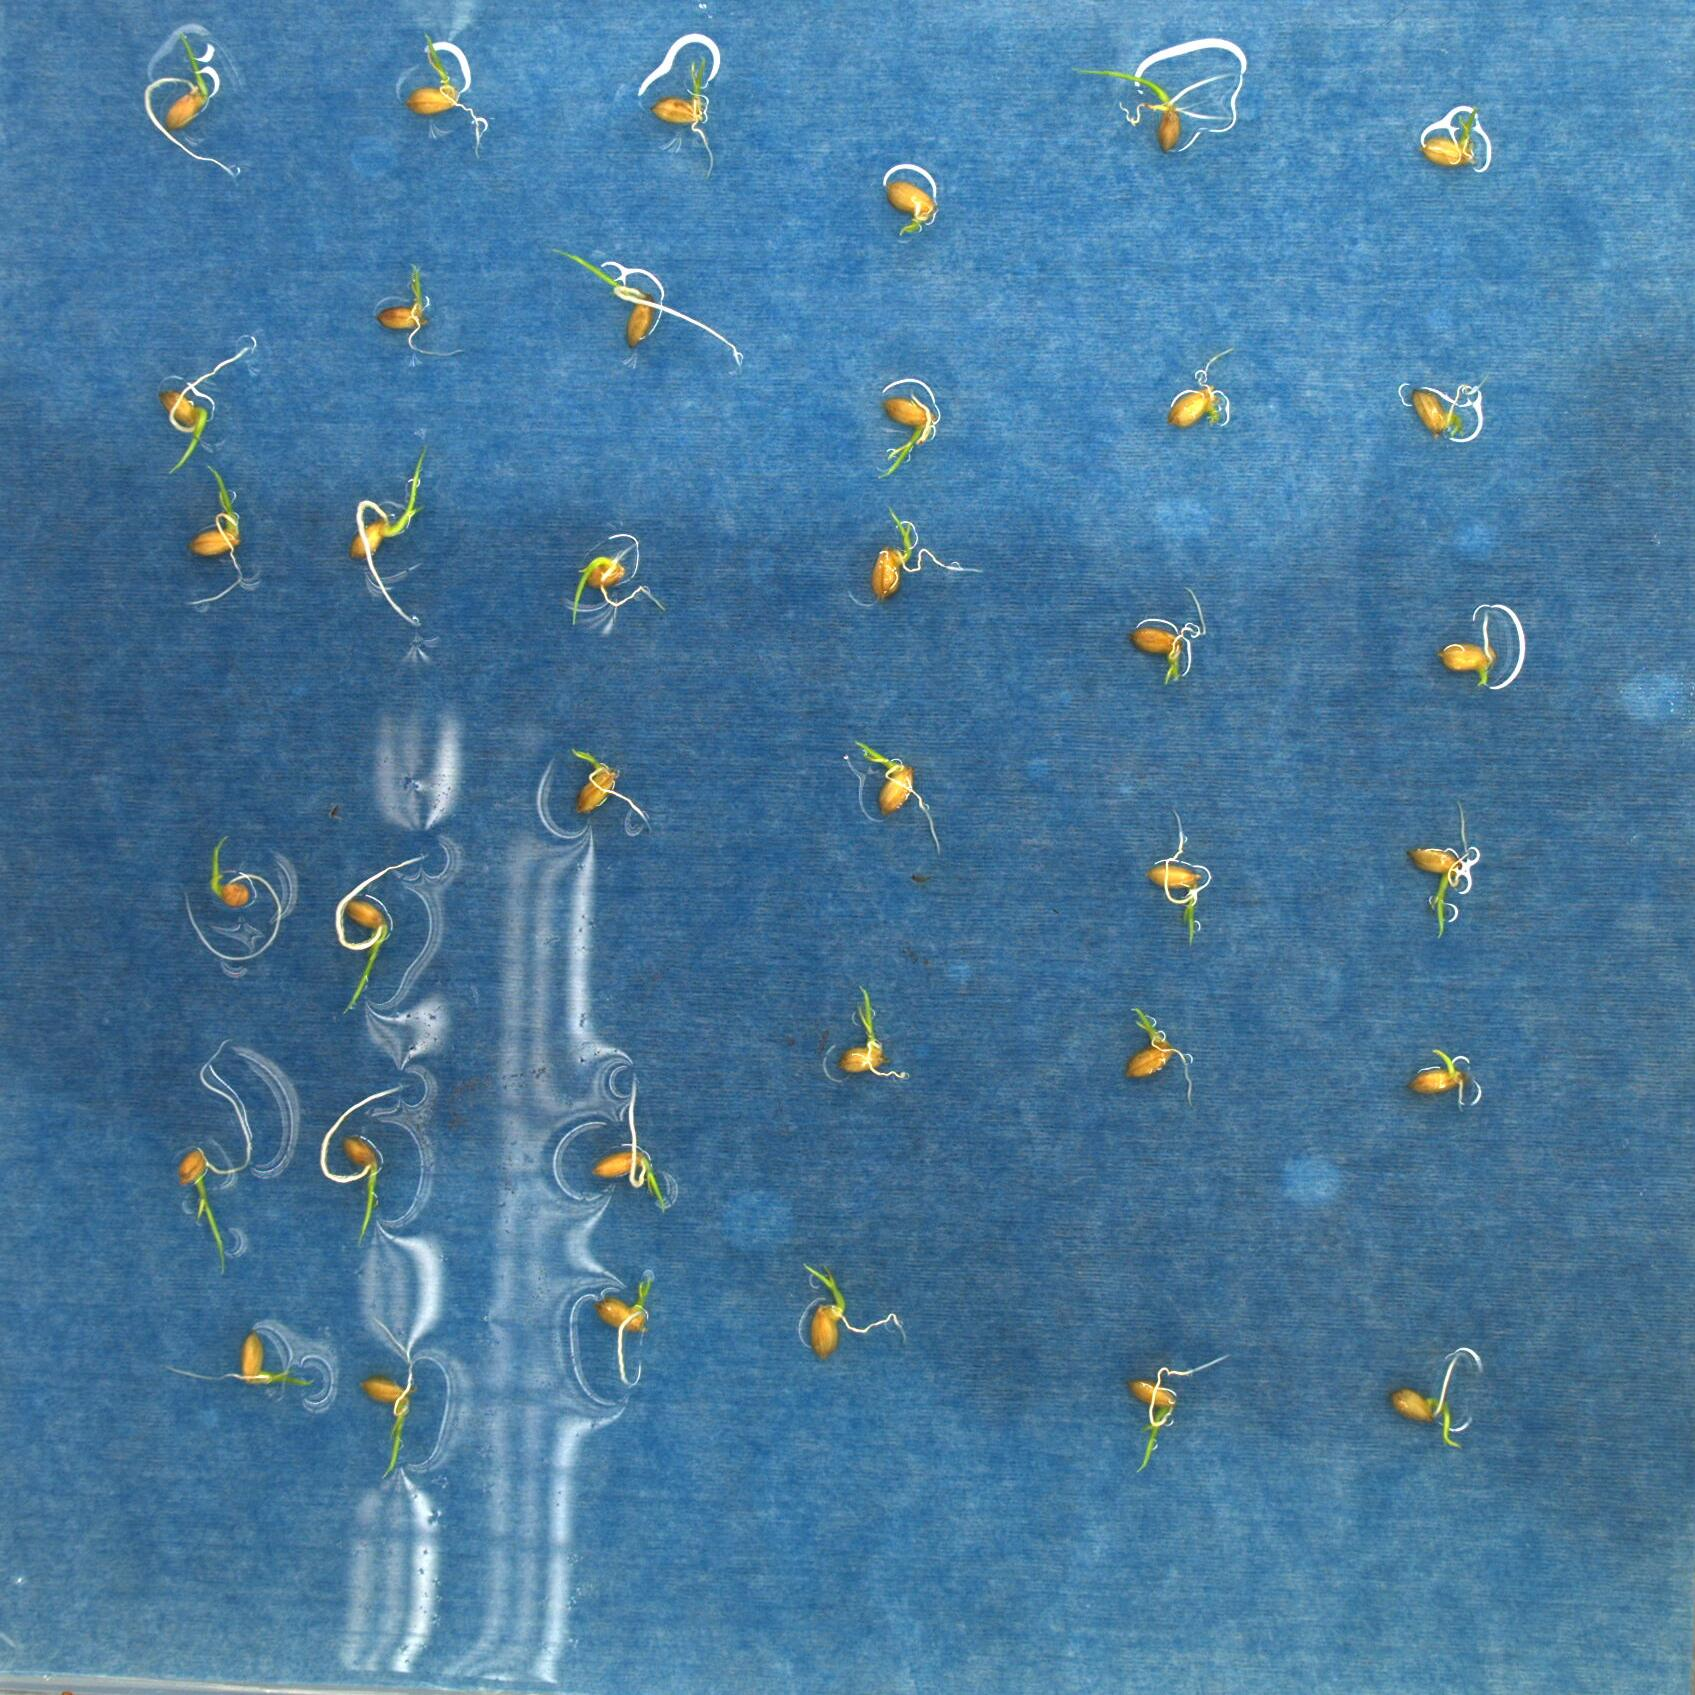not sprout: (1437, 605, 1496, 691)
sprout: (553, 245, 742, 366), (175, 1040, 248, 1274), (352, 441, 428, 635), (321, 1083, 407, 1254), (334, 855, 428, 1009), (146, 33, 241, 175), (161, 335, 256, 473), (1074, 67, 1232, 149), (179, 837, 279, 959), (1132, 1357, 1232, 1473), (872, 504, 986, 605), (851, 734, 945, 854), (598, 1069, 669, 1217), (404, 36, 484, 161), (802, 1262, 906, 1358), (1409, 798, 1478, 939), (573, 536, 666, 632), (165, 1333, 320, 1391), (1146, 806, 1208, 948), (362, 1318, 416, 1478), (376, 264, 464, 357), (653, 53, 719, 179), (1395, 1347, 1473, 1445), (571, 747, 655, 835), (192, 463, 242, 608), (1132, 585, 1201, 685), (1125, 1006, 1195, 1105), (843, 986, 910, 1080), (602, 1276, 650, 1388), (877, 386, 931, 478), (1167, 349, 1226, 428), (1419, 102, 1481, 171), (1412, 1046, 1471, 1107), (875, 182, 938, 237), (1412, 385, 1471, 439)
